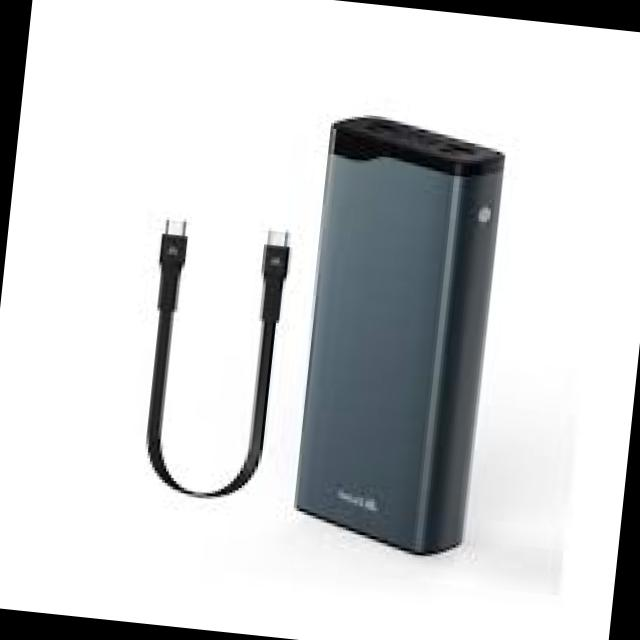portable-charger: (278, 109, 510, 563)
